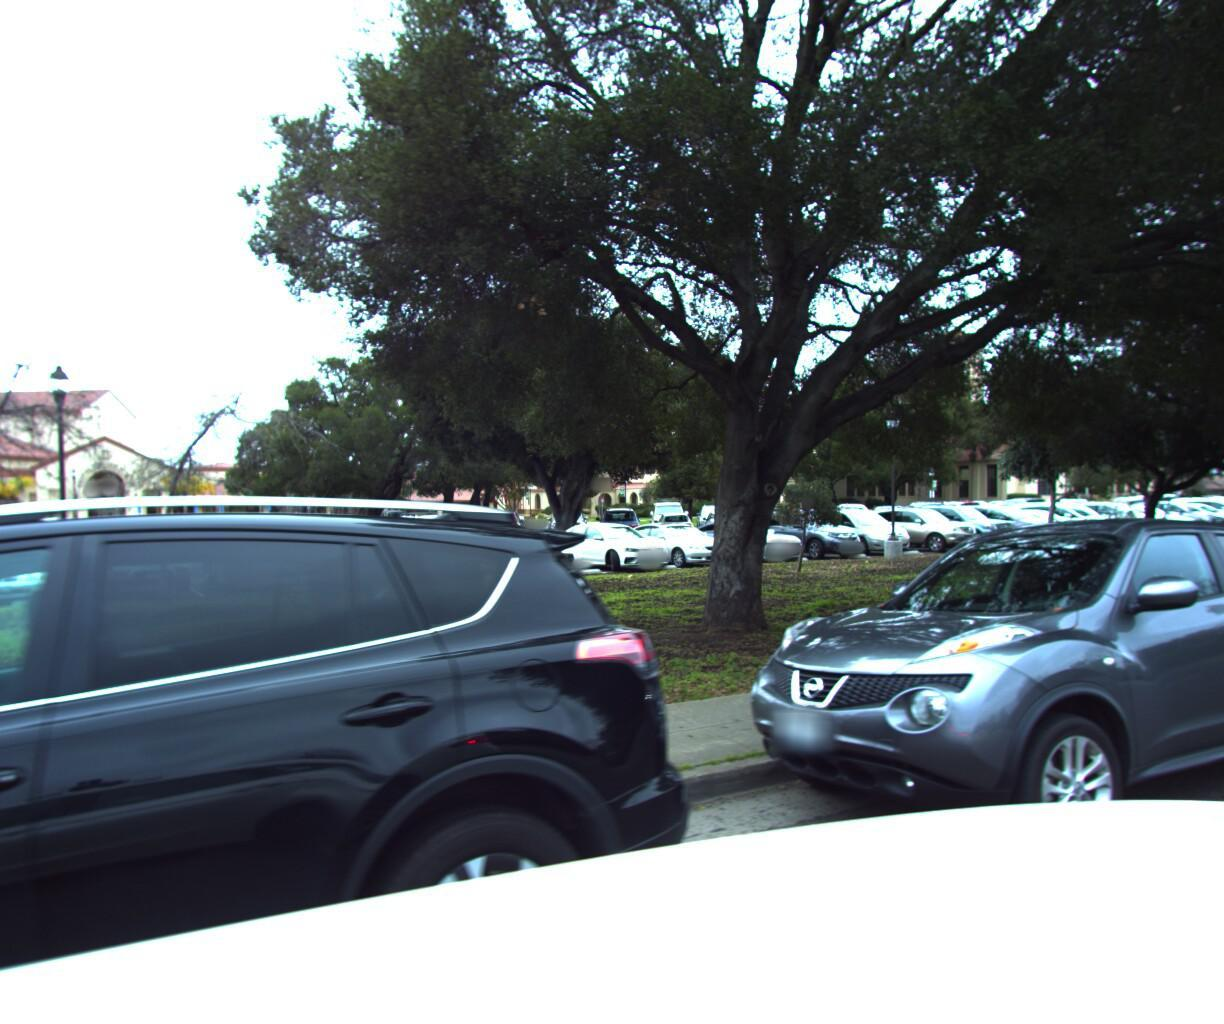car: (0, 490, 754, 1024), (694, 511, 1224, 929)
